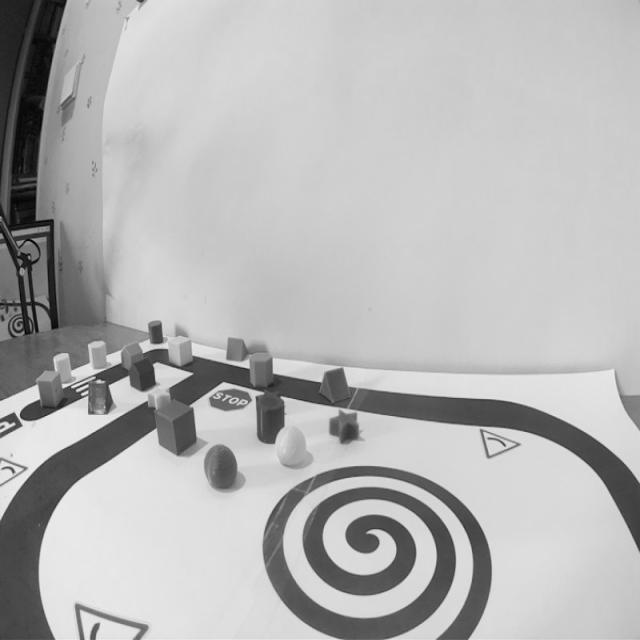ball: (200, 440, 240, 495), (273, 422, 309, 469)
cube: (152, 396, 199, 458), (35, 366, 66, 410), (166, 332, 195, 372)
cylinder: (253, 395, 286, 449), (51, 346, 74, 386), (146, 314, 165, 348)
hexagon: (86, 337, 111, 373)
home: (128, 356, 160, 394), (120, 338, 145, 372)
nest: (254, 448, 500, 640)
star: (326, 405, 363, 448), (145, 384, 173, 411)
triangle: (316, 366, 354, 404), (84, 376, 116, 420), (223, 332, 250, 367)
